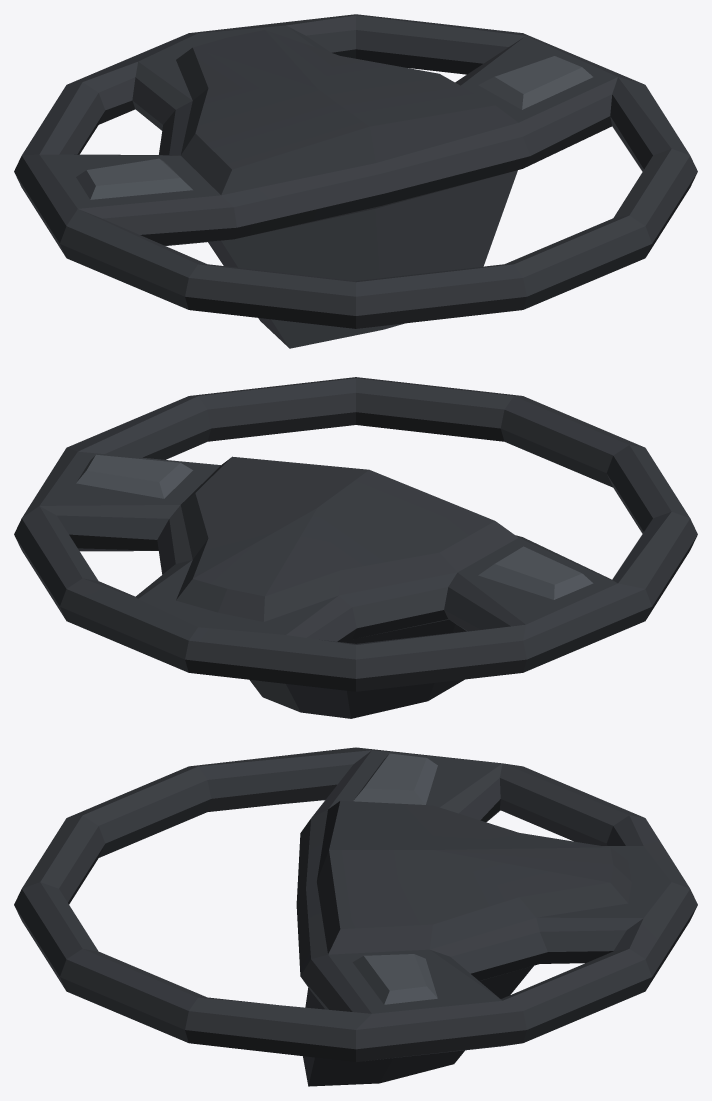
The model's file is SM_Veh_Car_Sedan_SteeringW.obj.
The picture shows the model from 3 angles, top to bottom: view 1: azimuth 30°, elevation 25°; view 2: azimuth 150°, elevation 25°; view 3: azimuth 270°, elevation 25°; orthographic projection.
Parts seen in each view (by area): view 1: SM_Veh_Car_Sedan_SteeringW_0; view 2: SM_Veh_Car_Sedan_SteeringW_0; view 3: SM_Veh_Car_Sedan_SteeringW_0.
Part boxes in pixels (x1,y1,x2,y2): SM_Veh_Car_Sedan_SteeringW_0: (14, 14, 697, 348); SM_Veh_Car_Sedan_SteeringW_0: (14, 377, 697, 718); SM_Veh_Car_Sedan_SteeringW_0: (14, 747, 697, 1086).
Size of the model in its own units: 0.432 by 0.1342 by 0.432.
Materials: 1 (1 with a texture image).
